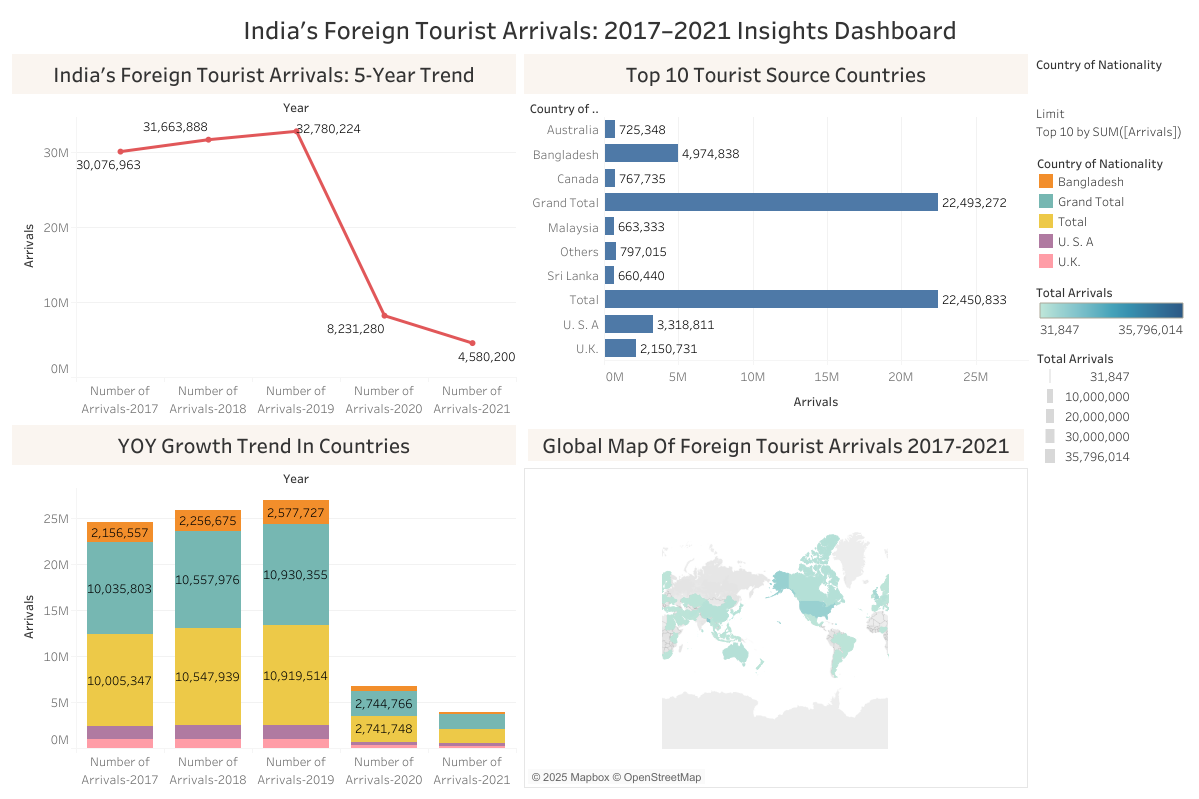

This screenshot's page, from the dashboard's own definition file:
{"tool":"tableau","page":{"name":"Insights Dashboard","canvas":[1200,800],"ordinal":0},"visuals":[{"type":"title","box":[8,8,1184,42]},{"type":"worksheet","title":"Tourist Arrivals","mark":"Line","rows":["Pivot Field Values"],"cols":["Pivot Field Names"],"box":[8,50,512,371]},{"type":"worksheet","title":"Tourist Source","mark":"Bar","rows":["Country of Nationality"],"cols":["Pivot Field Values"],"box":[520,50,512,371]},{"type":"filter","title":"Tourist Source","param":"[federated.1ulip4t1q8de6g16e643t0ehvcj8].[none:Country of Nationality:nk]","box":[1032,50,160,98]},{"type":"legend","title":"Growth Trend","param":"[federated.1ulip4t1q8de6g16e643t0ehvcj8].[none:Country of Nationality:nk]","box":[1032,148,160,127]},{"type":"legend","title":"Foreign Tourist (Map)","param":"[federated.1ulip4t1q8de6g16e643t0ehvcj8].[usr:Calculation_0001041477935315:qk]","box":[1032,275,160,68]},{"type":"legend","title":"Foreign Tourist (Map)","param":"[federated.1ulip4t1q8de6g16e643t0ehvcj8].[usr:Calculation_0001041477935315:qk]","box":[1032,343,160,127]},{"type":"worksheet","title":"Growth Trend","mark":"Automatic","rows":["Pivot Field Values"],"cols":["Pivot Field Names"],"box":[8,421,512,371]},{"type":"worksheet","title":"Foreign Tourist (Map)","mark":"Multipolygon","box":[520,421,512,371]}]}

Visuals, with their boxes in screenshot pixels (x1, y1, x2, y2), scaled from the page's 1200x800 canvas onto the 1199x799 screenshot:
title: x1=8 y1=8 x2=1191 y2=50
"Tourist Arrivals" worksheet (Line marks): x1=8 y1=50 x2=520 y2=420
"Tourist Source" worksheet (Bar marks): x1=520 y1=50 x2=1031 y2=420
"Tourist Source" filter: x1=1031 y1=50 x2=1191 y2=148
"Growth Trend" legend: x1=1031 y1=148 x2=1191 y2=275
"Foreign Tourist (Map)" legend: x1=1031 y1=275 x2=1191 y2=343
"Foreign Tourist (Map)" legend: x1=1031 y1=343 x2=1191 y2=469
"Growth Trend" worksheet: x1=8 y1=420 x2=520 y2=791
"Foreign Tourist (Map)" worksheet (Multipolygon marks): x1=520 y1=420 x2=1031 y2=791
